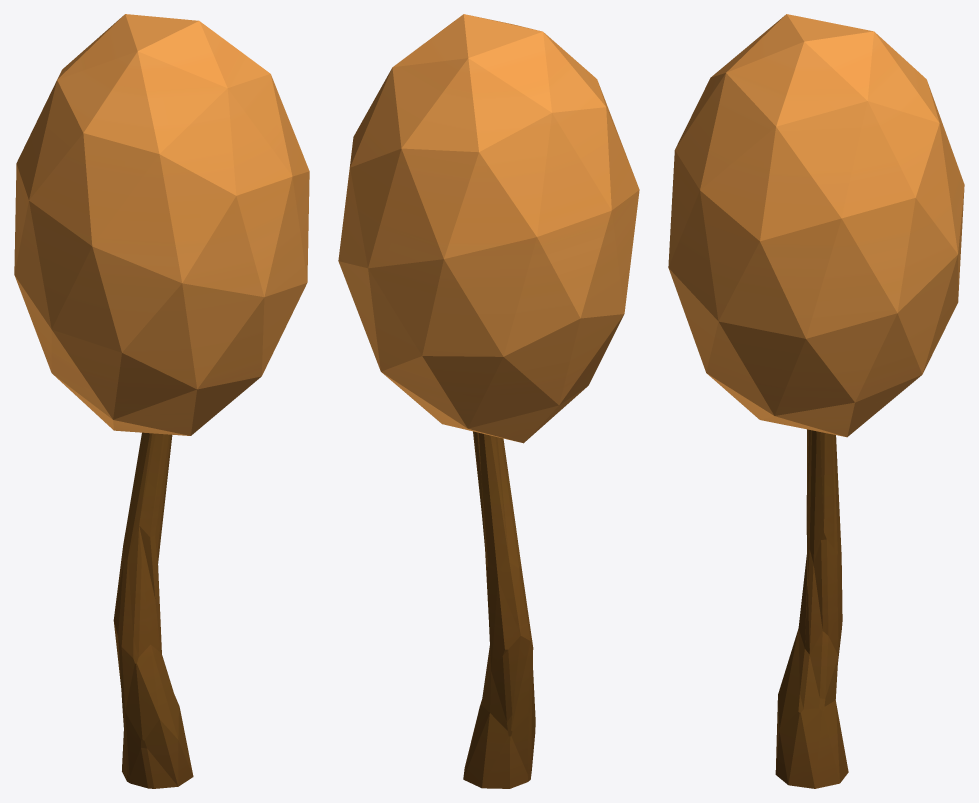
File: tree_poplar.glb
3 renders of one model, left to right at view 1: azimuth 30°, elevation 25°; view 2: azimuth 150°, elevation 25°; view 3: azimuth 270°, elevation 25°, orthographic.
Parts seen in each view (by area): view 1: tree_poplar; view 2: tree_poplar; view 3: tree_poplar.
Boxes of the visible parts, left/top/right/bottom form: tree_poplar: left=14, top=14, right=309, bottom=788; tree_poplar: left=338, top=14, right=639, bottom=788; tree_poplar: left=668, top=14, right=964, bottom=788.
Bounding box in the file's own units: 1.65 × 4.6 × 1.65.
1 material, 1 textured.
